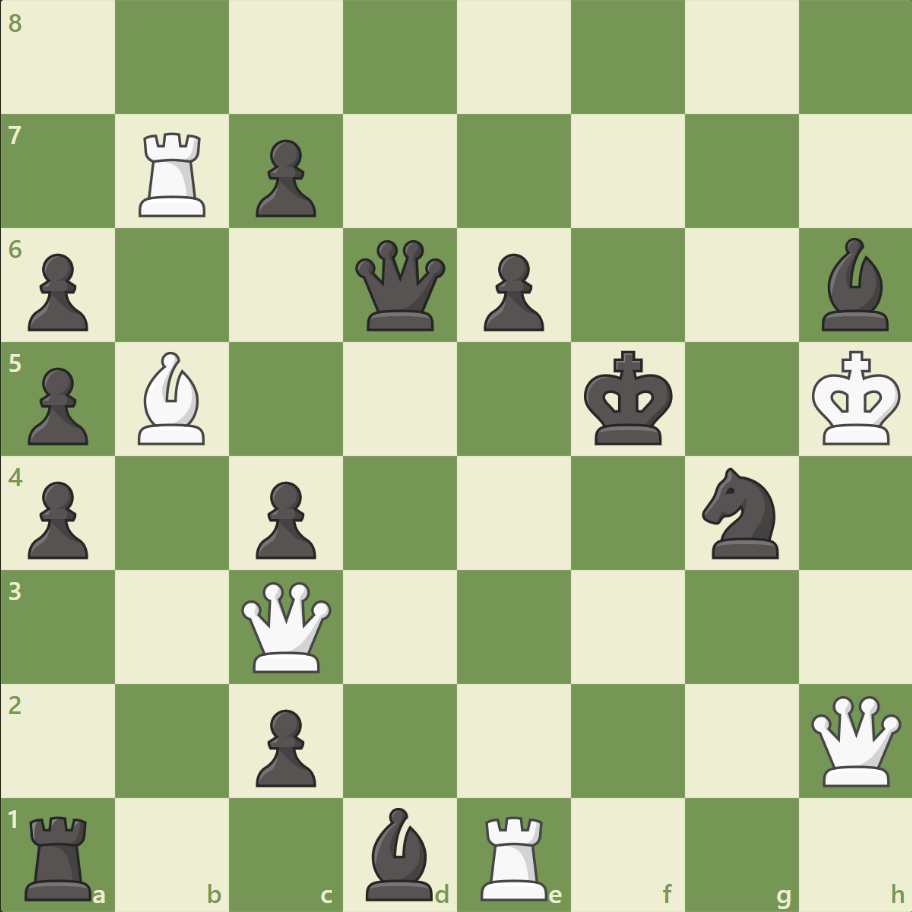B: (131, 347, 215, 449)
K: (806, 344, 906, 452)
Q: (237, 576, 336, 676), (805, 690, 904, 789)
R: (473, 806, 556, 904), (133, 125, 215, 222)
b: (812, 233, 896, 336), (358, 801, 442, 904)
k: (579, 344, 679, 452)
n: (692, 461, 789, 564)
p: (247, 132, 322, 223), (20, 246, 95, 337), (474, 246, 549, 337), (20, 359, 95, 450), (20, 473, 95, 564), (247, 473, 322, 564), (247, 700, 322, 791)
q: (351, 236, 450, 335)
r: (19, 806, 102, 904)
